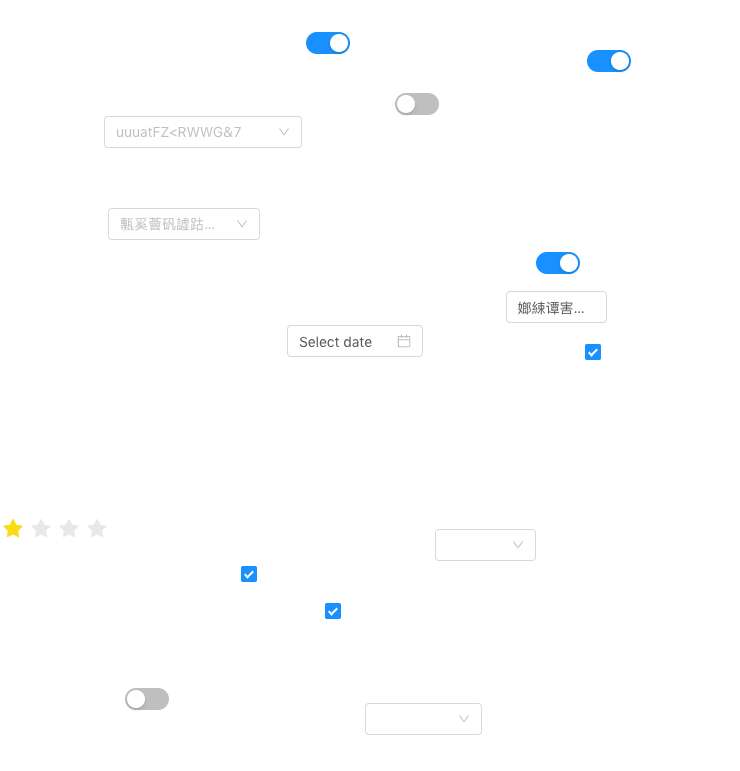Checkbox: (585, 341, 601, 362), (325, 600, 341, 621), (241, 563, 257, 584)
DatePicker: (287, 325, 423, 357)
Input: (506, 291, 607, 323)
Rate: (3, 512, 123, 544)
Select: (104, 116, 302, 148), (108, 208, 260, 240), (365, 703, 482, 735), (435, 529, 536, 561)
Switch: (306, 31, 350, 55), (125, 687, 169, 711), (395, 92, 439, 116), (536, 251, 580, 275), (587, 49, 631, 73)
